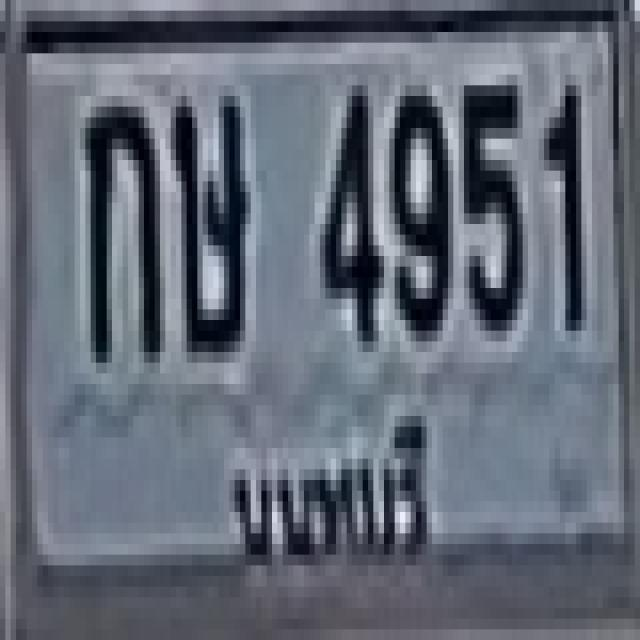-: (168, 85, 243, 352), (80, 96, 155, 352)
1: (539, 80, 576, 325)
4: (317, 80, 376, 336)
5: (459, 75, 517, 320)
9: (387, 85, 445, 331)
NBI: (219, 398, 446, 570)
